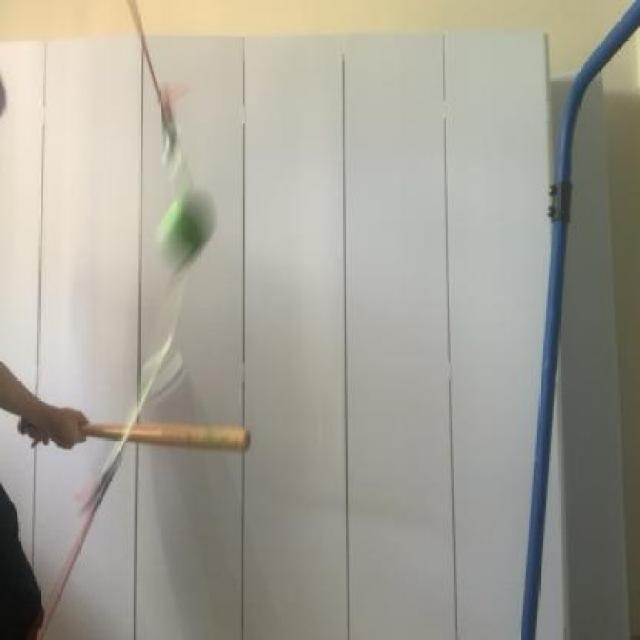baseball: (145, 179, 229, 270)
